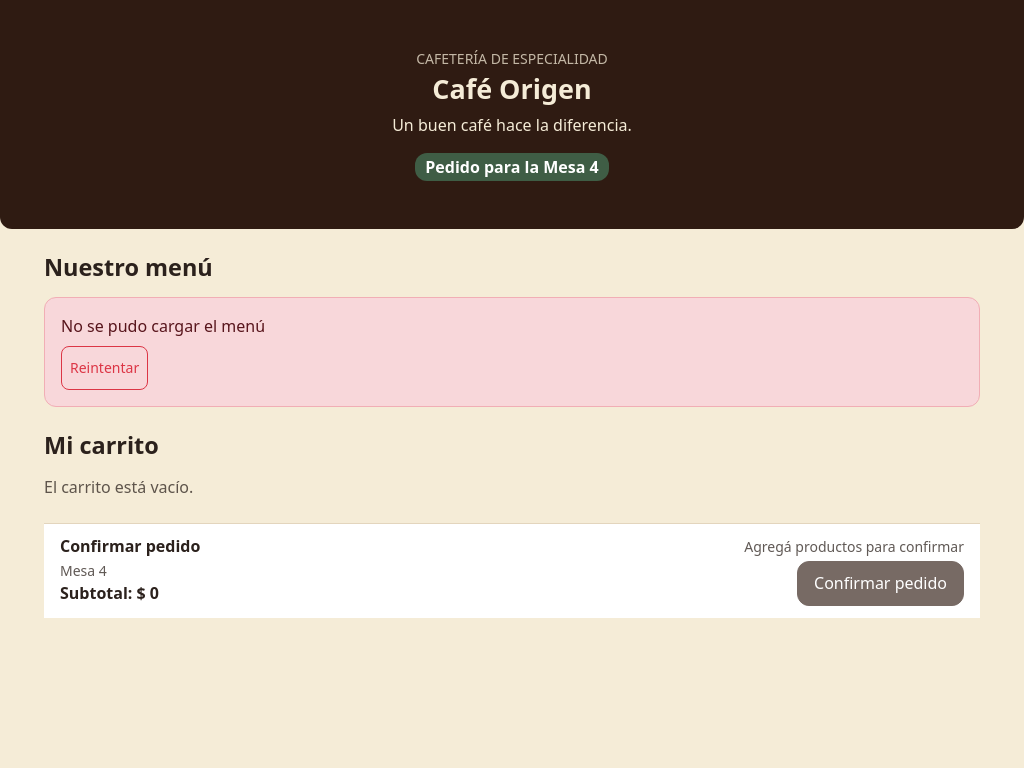
Integracion: selector de cafe › muestra el mensaje de error del menu y permite reintentar
Check: the message shows "No se pudo cargar el menú", box [61,315,265,337]
Click the button "Reintentar" at x=105, y=368, box [61,346,148,390]
(page scrolled)
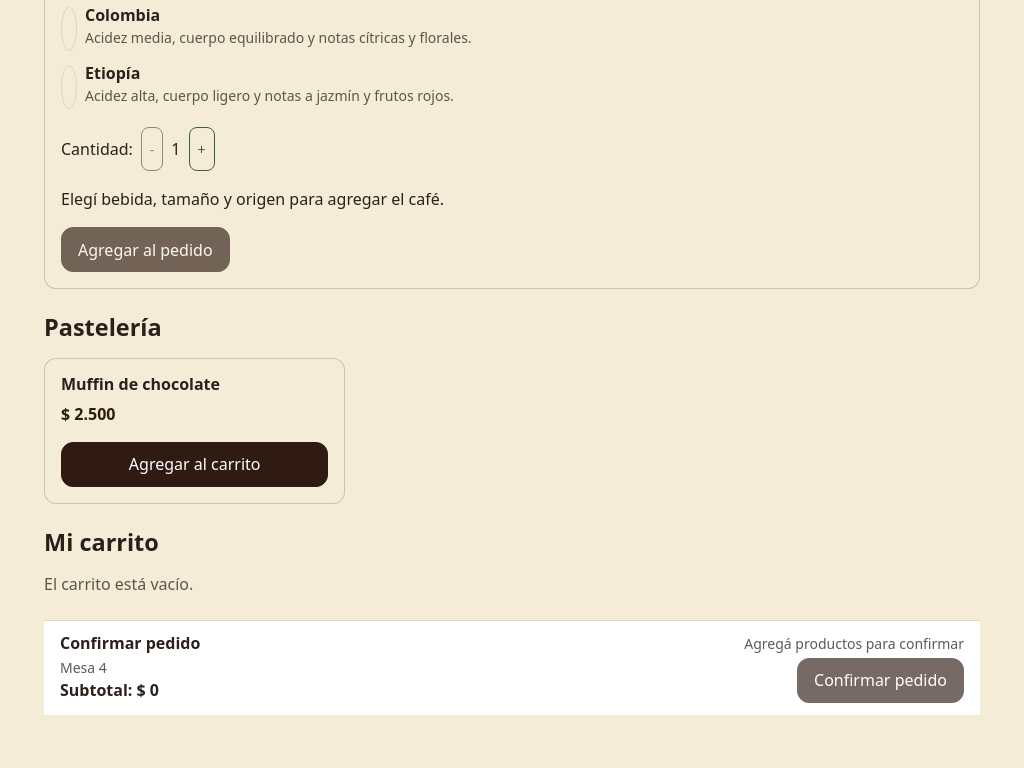
Check: the heading "Muffin de chocolate" is shown, box [61,373,220,395]
